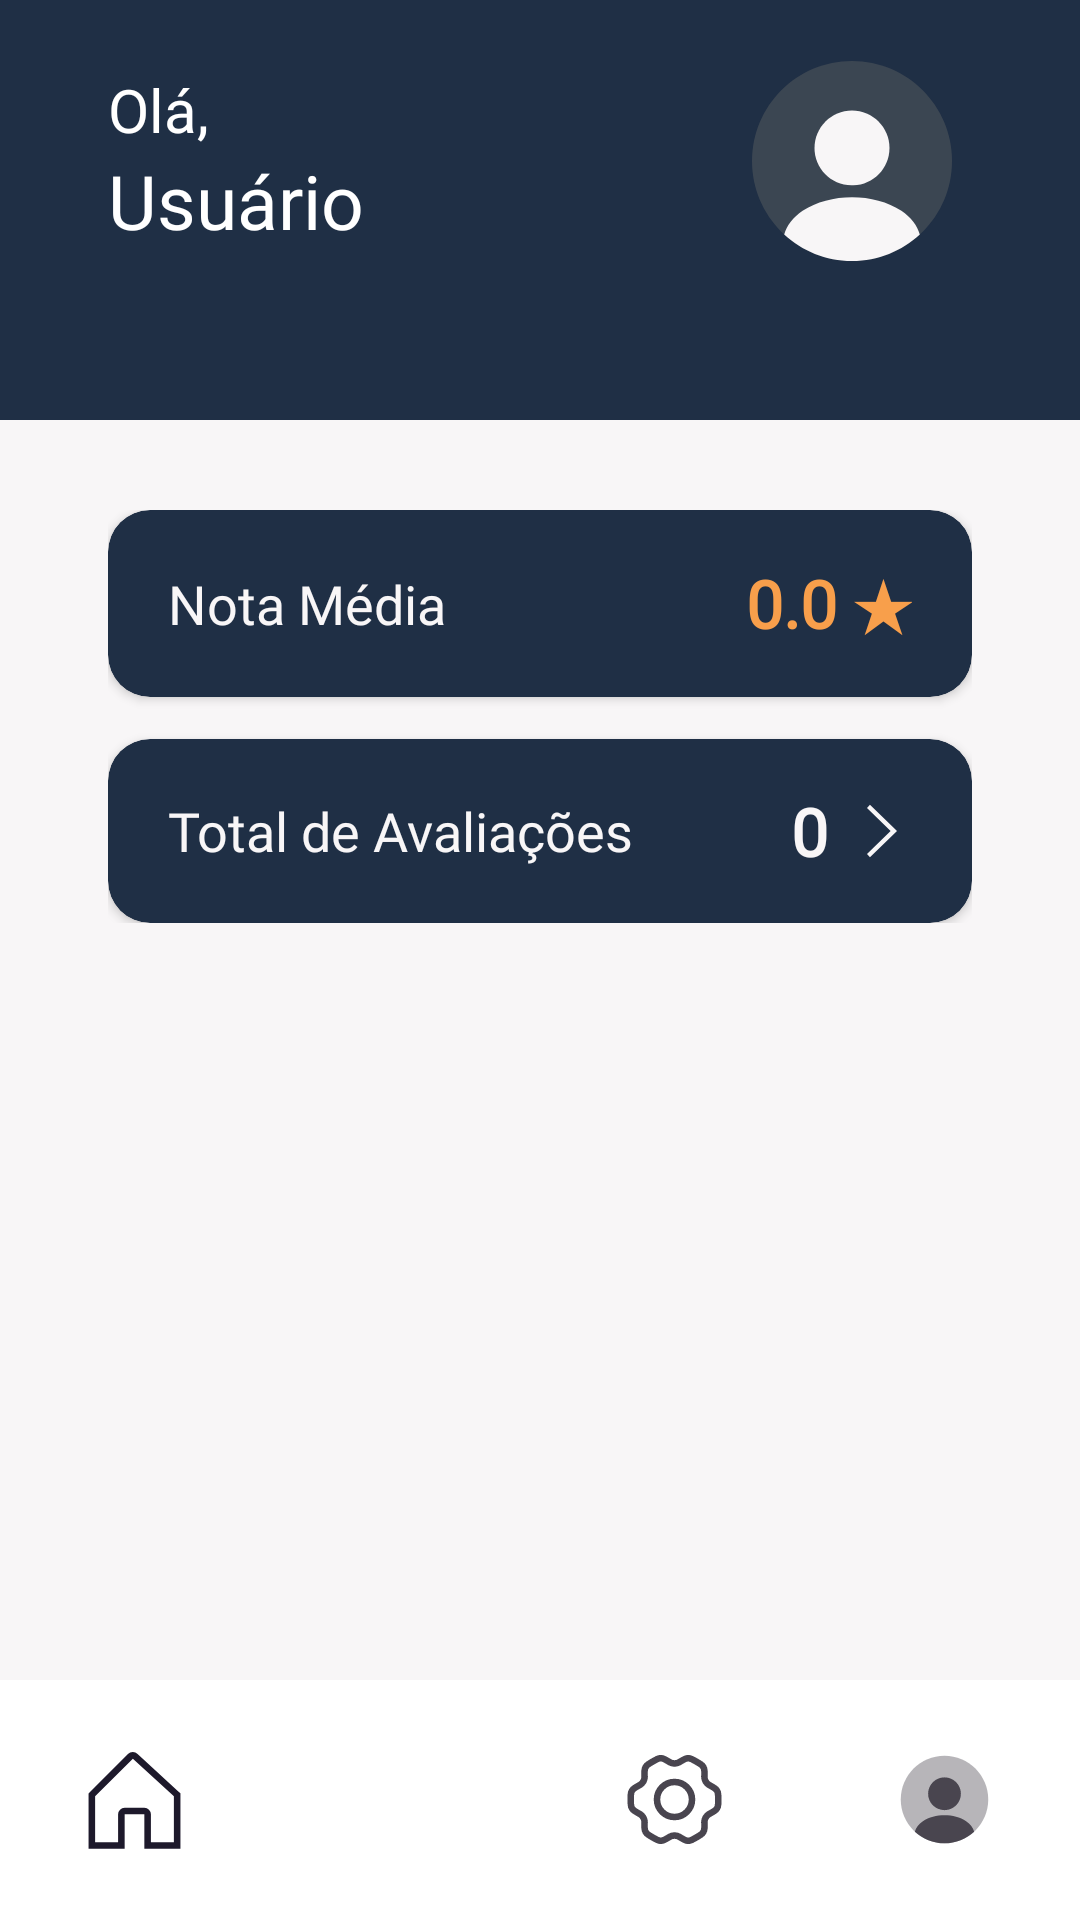

Where icons sit on this 1080 x 1920 app screen, as (x1, y1, x2, y2):
Ver avaliações: (867, 805, 897, 857)
